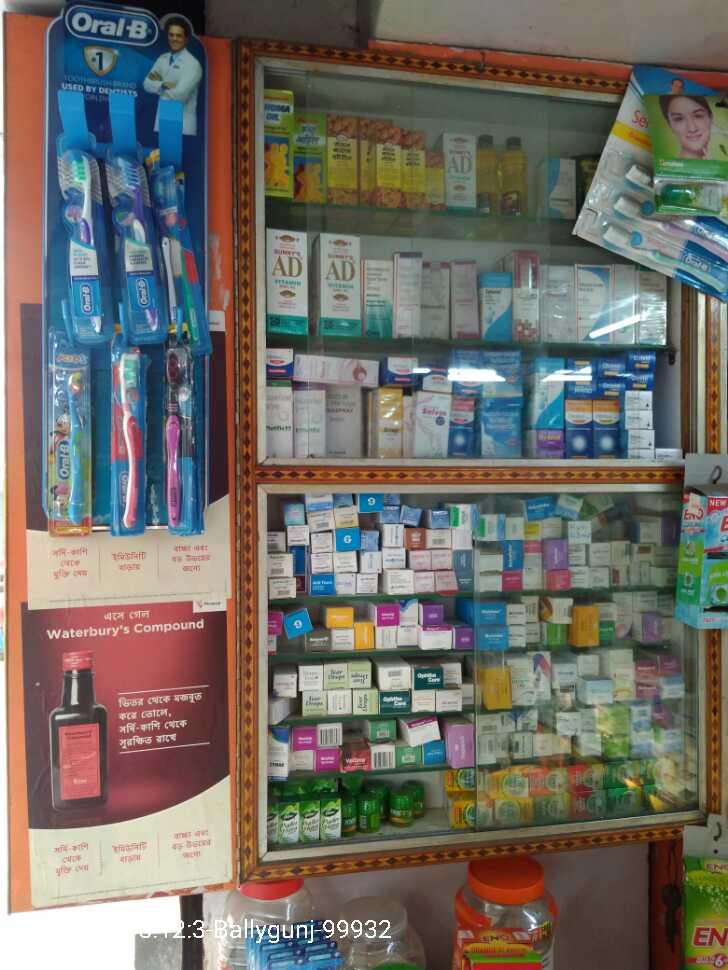oralb: (103, 161, 161, 348), (47, 353, 96, 547), (149, 360, 199, 529), (57, 155, 102, 333), (111, 356, 138, 535)
